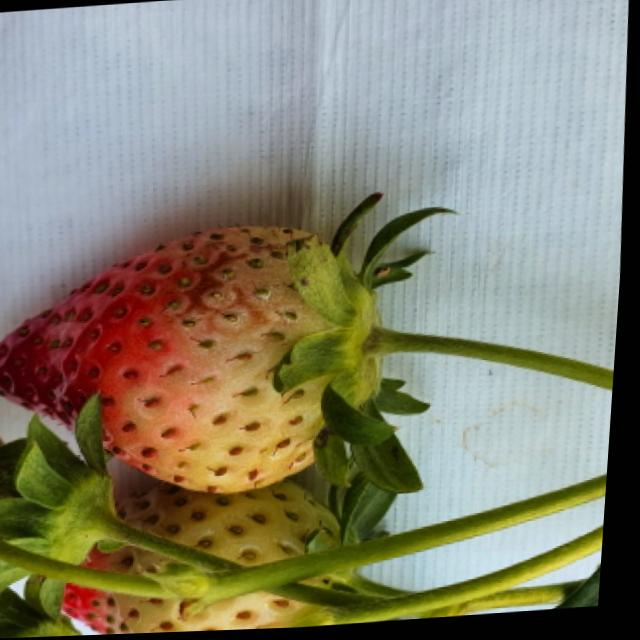Powdery Mildew Fruit: (0, 226, 352, 495)
